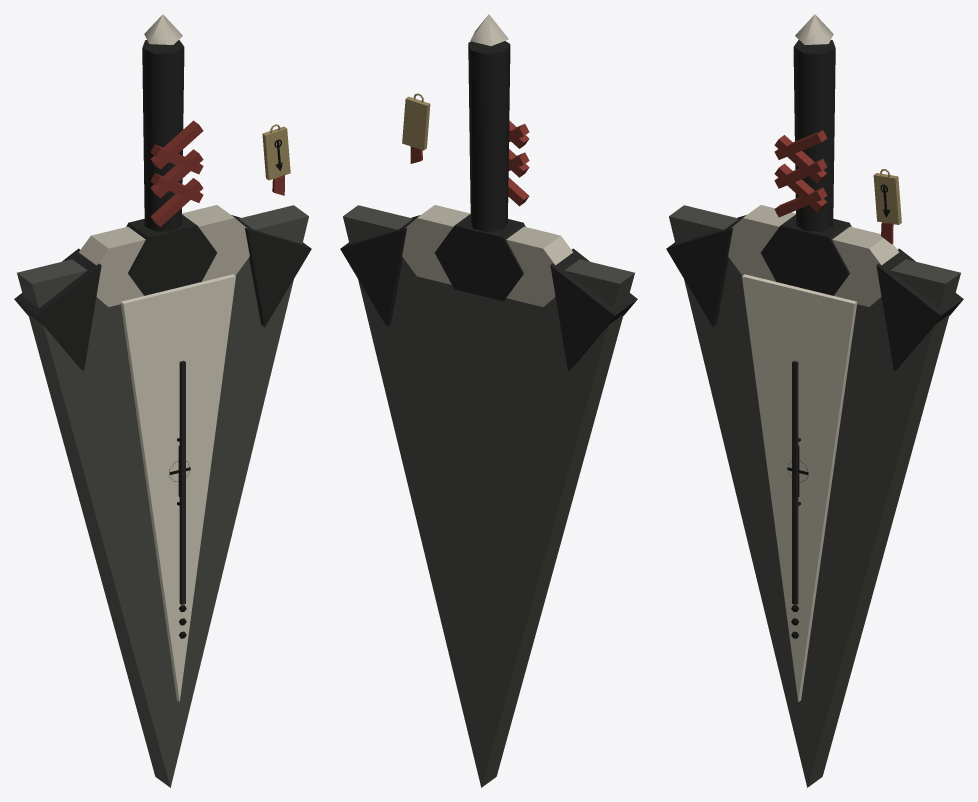
The model's file is fantasy-faceted-triangle-greatsword-v1.glb.
3 renders of one model, left to right at view 1: azimuth 30°, elevation 25°; view 2: azimuth 150°, elevation 25°; view 3: azimuth 330°, elevation 25°, orthographic.
Visible parts, largest first — view 1: Triangle Greatsword; view 2: Triangle Greatsword; view 3: Triangle Greatsword.
Boxes of the visible parts, box(x1,y1,x2,y2) form: Triangle Greatsword: box(14, 14, 311, 787); Triangle Greatsword: box(340, 14, 637, 787); Triangle Greatsword: box(666, 14, 963, 787).
Bounding box in the file's own units: 2.51 × 6.64 × 0.5787.
